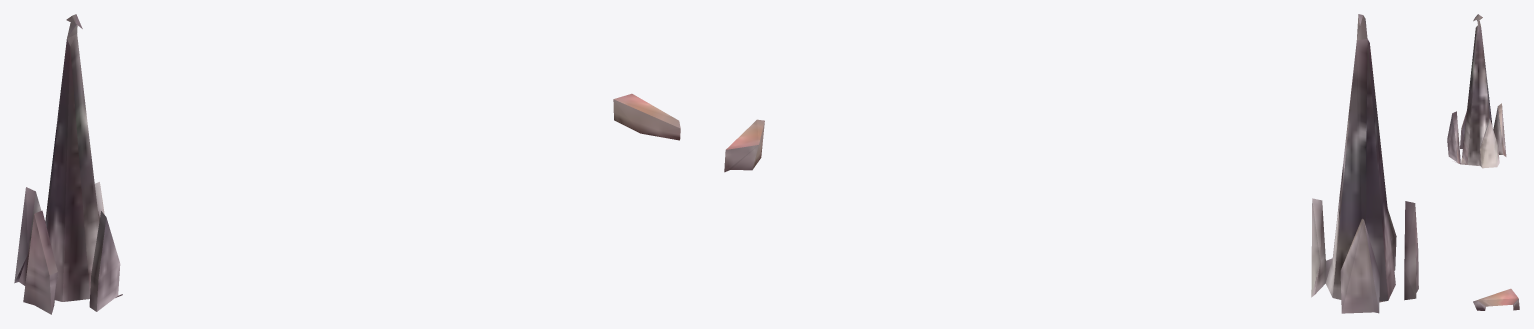
The picture shows the model from 3 angles, left to right: view 1: azimuth 30°, elevation 25°; view 2: azimuth 150°, elevation 25°; view 3: azimuth 270°, elevation 25°; orthographic projection. The views are drawn at different scales.
Parts seen in each view (by area): view 1: Mesh_0; view 2: Mesh_0; view 3: Mesh_0.
Part boxes in pixels (x1,y1,x2,y2): Mesh_0: (14,14,680,314); Mesh_0: (724,14,1418,313); Mesh_0: (1447,14,1519,310).
Size of the model in its own units: 45.2 by 17.88 by 8.12.
1 material, 1 textured.
